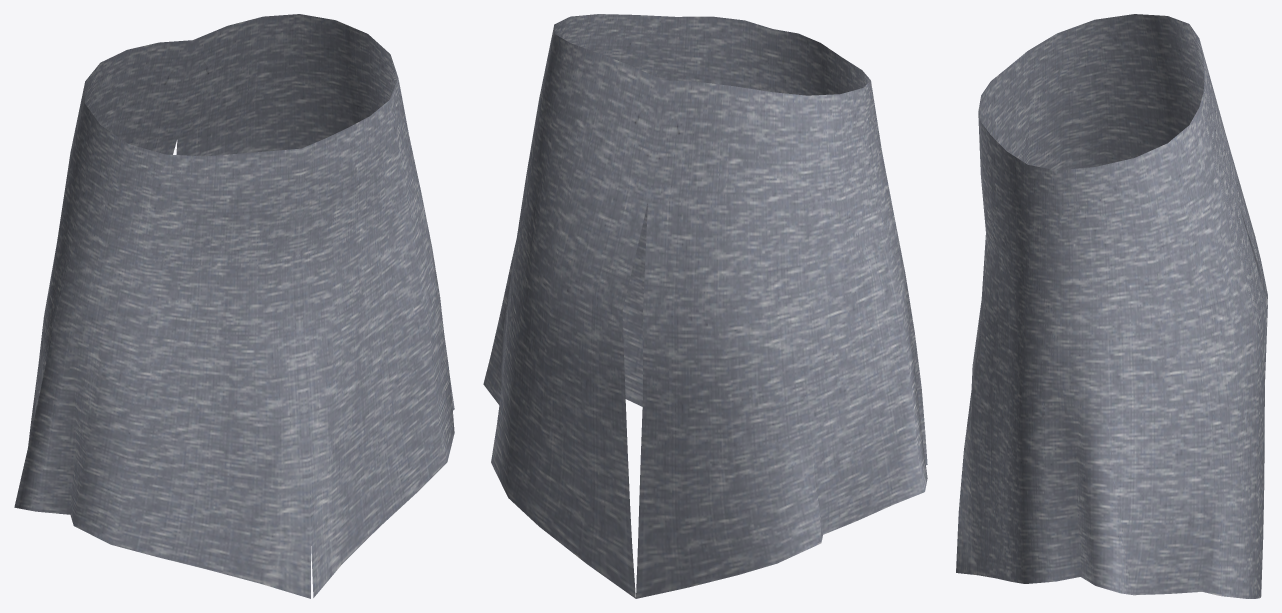
The model's file is clo_legolas_body.fbx.
3 renders of one model, left to right at view 1: azimuth 30°, elevation 25°; view 2: azimuth 150°, elevation 25°; view 3: azimuth 270°, elevation 25°, orthographic. The views are drawn at different scales.
Parts seen in each view (by area): view 1: clo_legolas_body; view 2: clo_legolas_body; view 3: clo_legolas_body.
Boxes of the visible parts, x1,y1,x2,y2 form: clo_legolas_body: [14, 14, 454, 598]; clo_legolas_body: [483, 14, 927, 598]; clo_legolas_body: [956, 14, 1267, 598].
Bounding box in the file's own units: 0.4492 × 0.2664 × 0.4933.
1 material, 1 textured.
